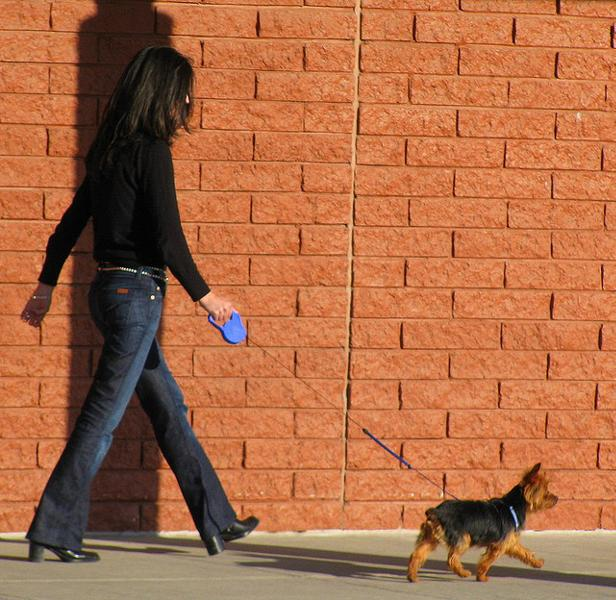person: (21, 47, 261, 563)
